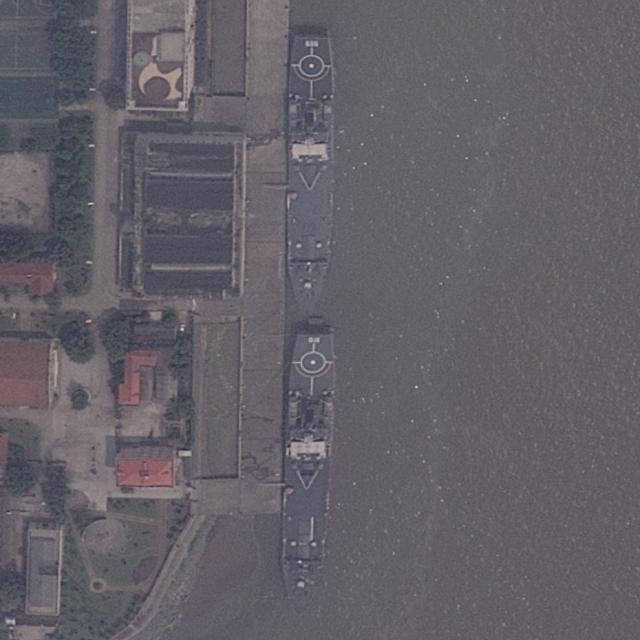Landing: (279, 332, 334, 610), (284, 33, 334, 315)
